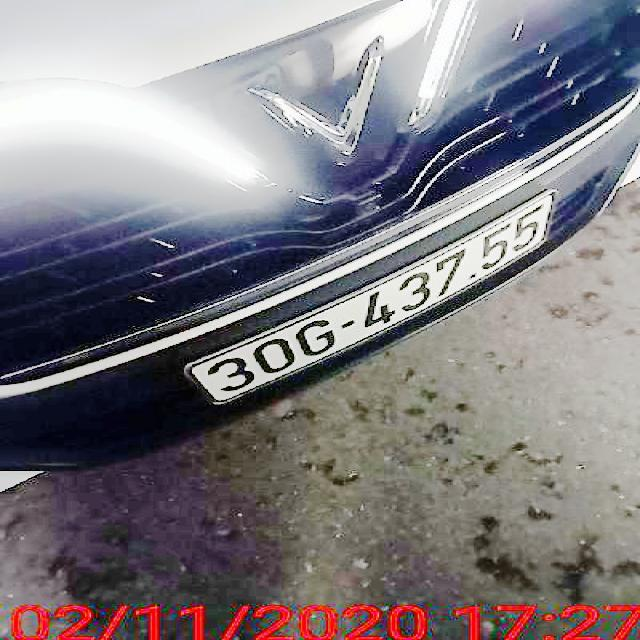license_plate: (187, 194, 554, 408)
